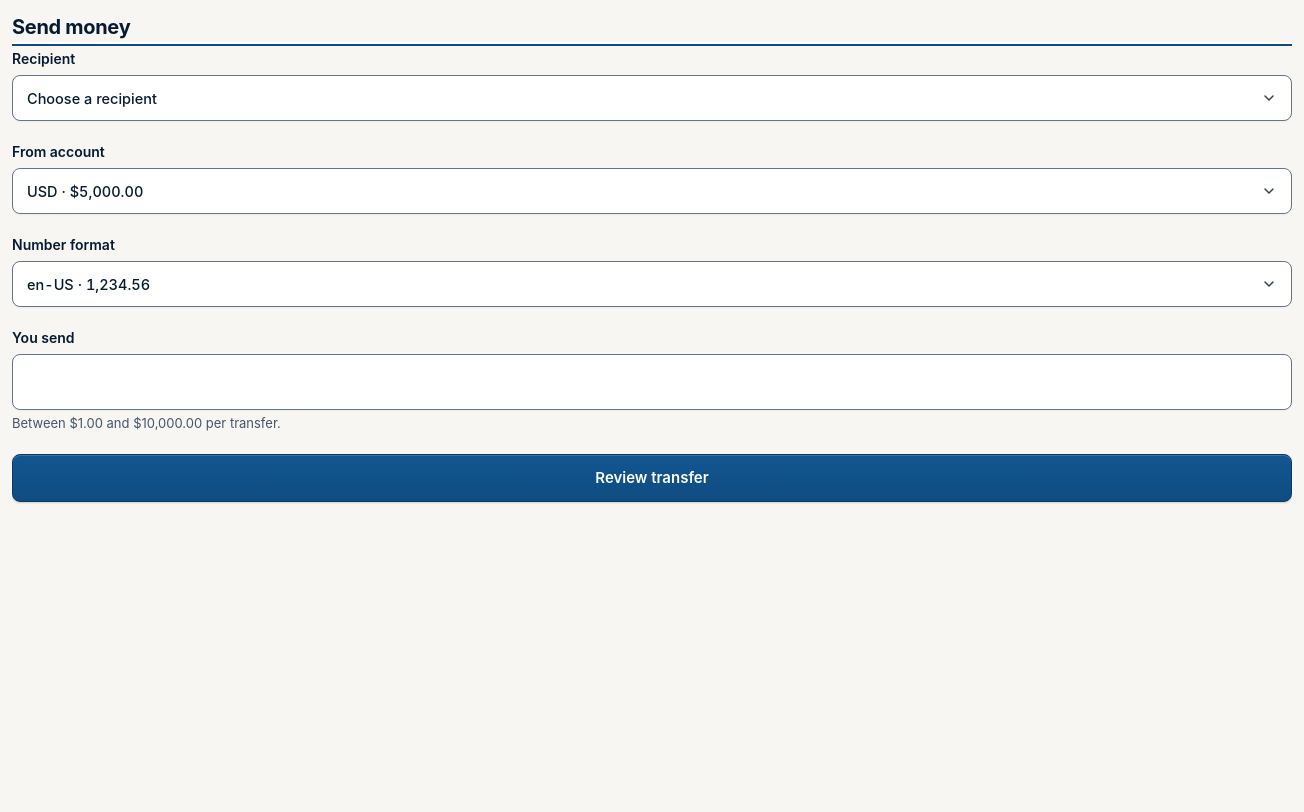
Test: Result Screen and Recent Activity History (WP-21B) › FOC-01 through FOC-04 Focus Behavior › FOC-02: summary receives focus when form review fails with client validation errors
What coordinates should you click on to do the following:
click the button "Review transfer"
I would click on:
 (652, 478)
Its box is [12, 454, 1292, 502].
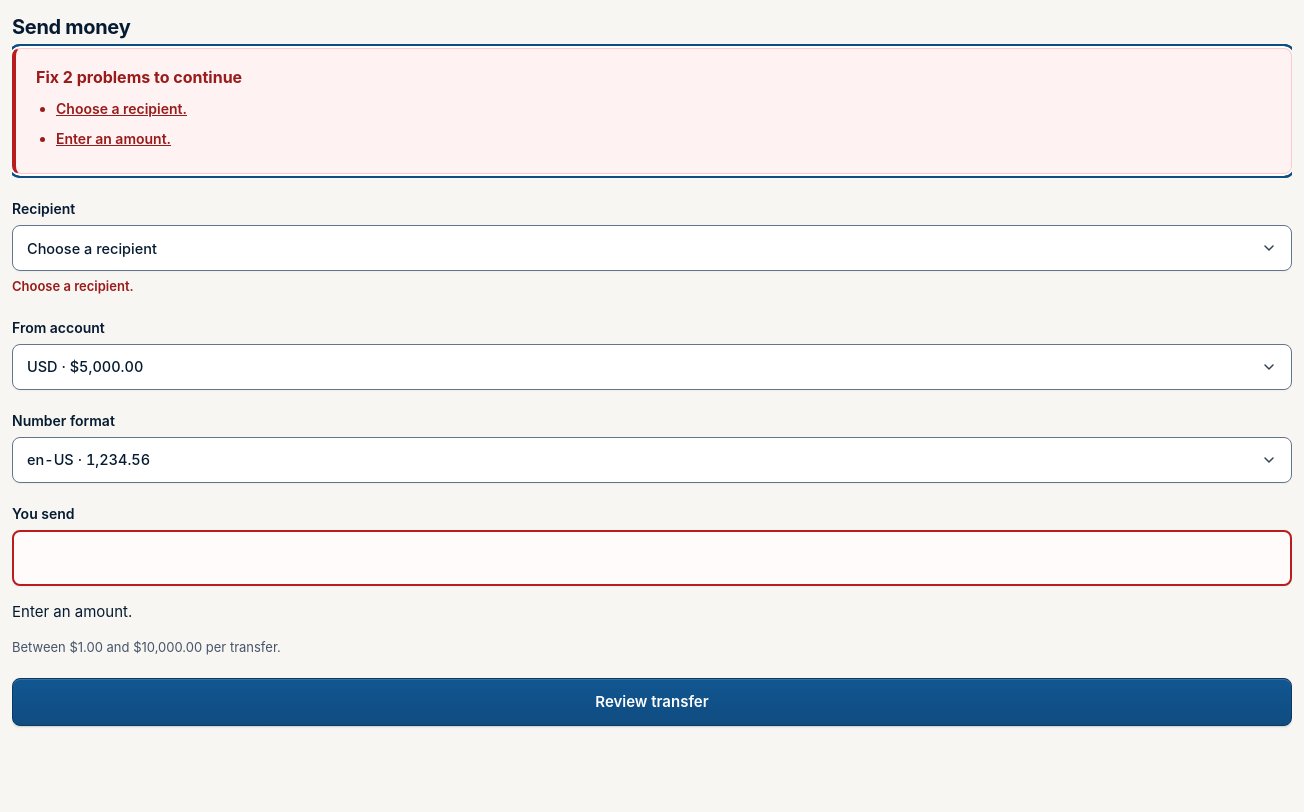
Expected: the message "Fix 2 problems to continue Choose a recipient. Enter an amount." is shown, [12, 48, 1292, 174]
